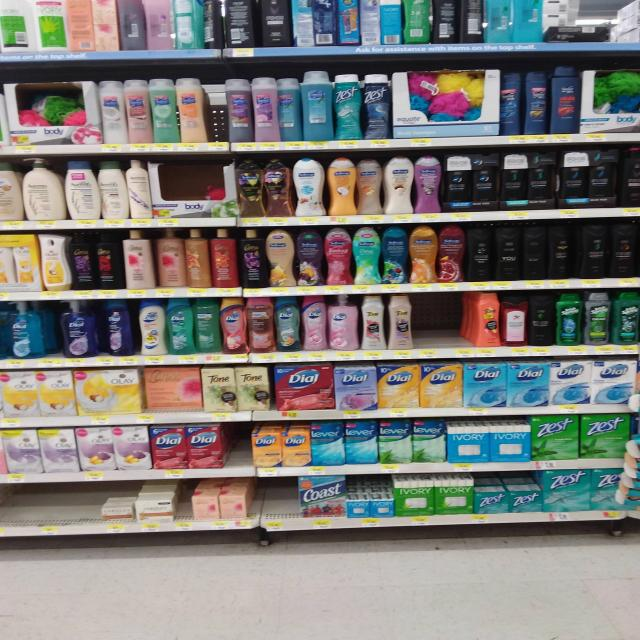void: (251, 478, 293, 530), (446, 293, 474, 357), (30, 484, 64, 536), (66, 483, 100, 533), (418, 294, 444, 358), (226, 425, 254, 476), (1, 487, 28, 538)
